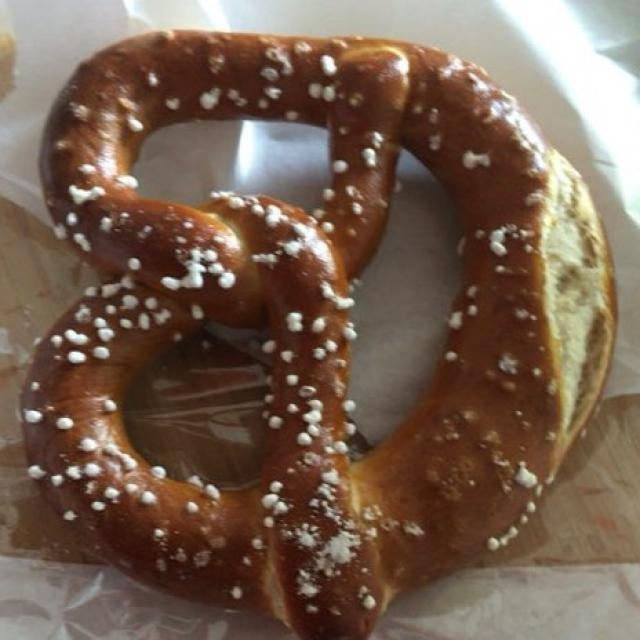pretzel: (38, 28, 598, 610)
